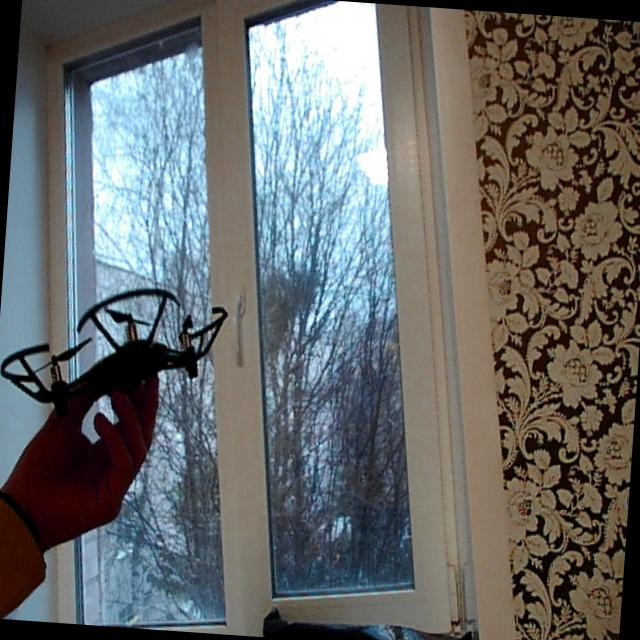drone: (0, 269, 246, 486)
